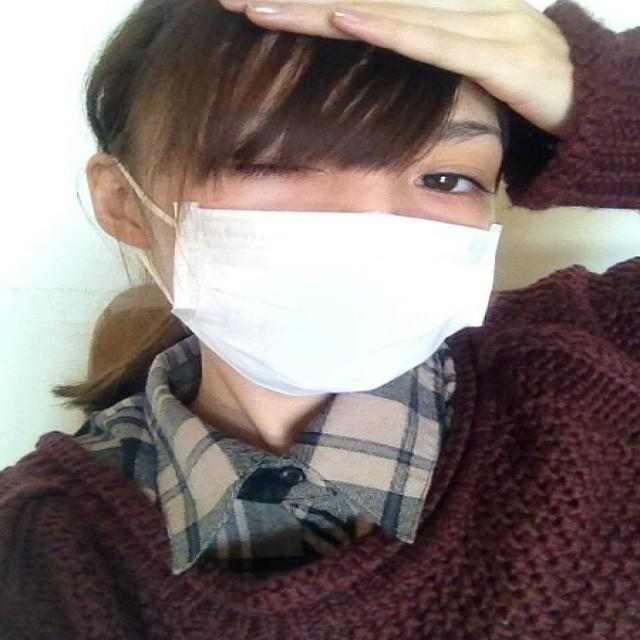mask: (178, 13, 508, 390)
